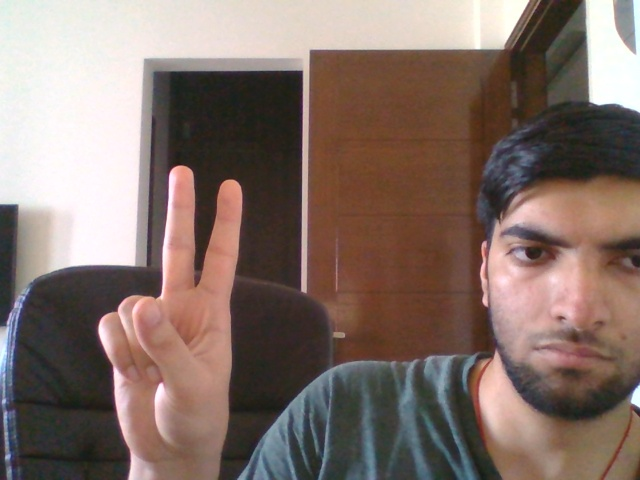LetterV: (95, 161, 245, 462)
